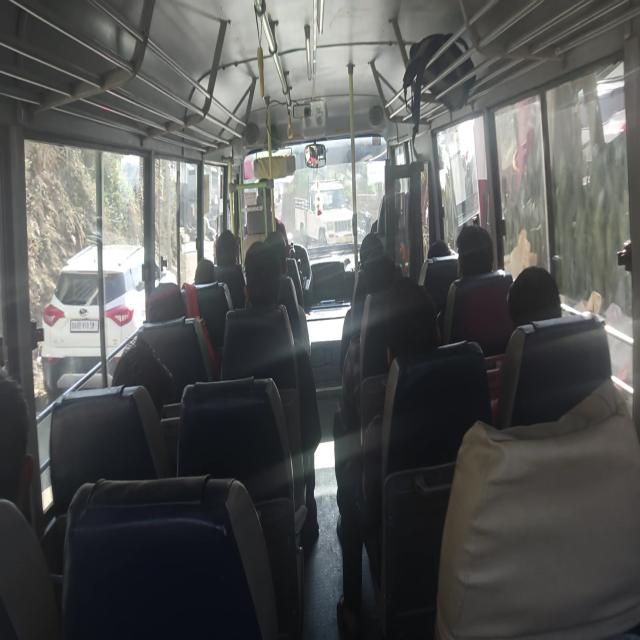person: (335, 276, 440, 636), (220, 239, 321, 542), (0, 376, 60, 638), (493, 265, 562, 425), (440, 224, 510, 350), (0, 376, 35, 520), (506, 265, 562, 329), (213, 229, 246, 309), (455, 224, 494, 278), (194, 258, 215, 284)
